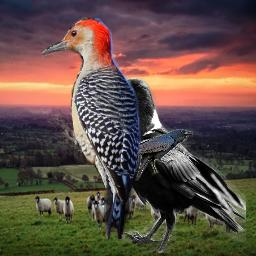Crow: (106, 75, 246, 253), (121, 129, 193, 181)
Woodpecker: (41, 17, 141, 239)
